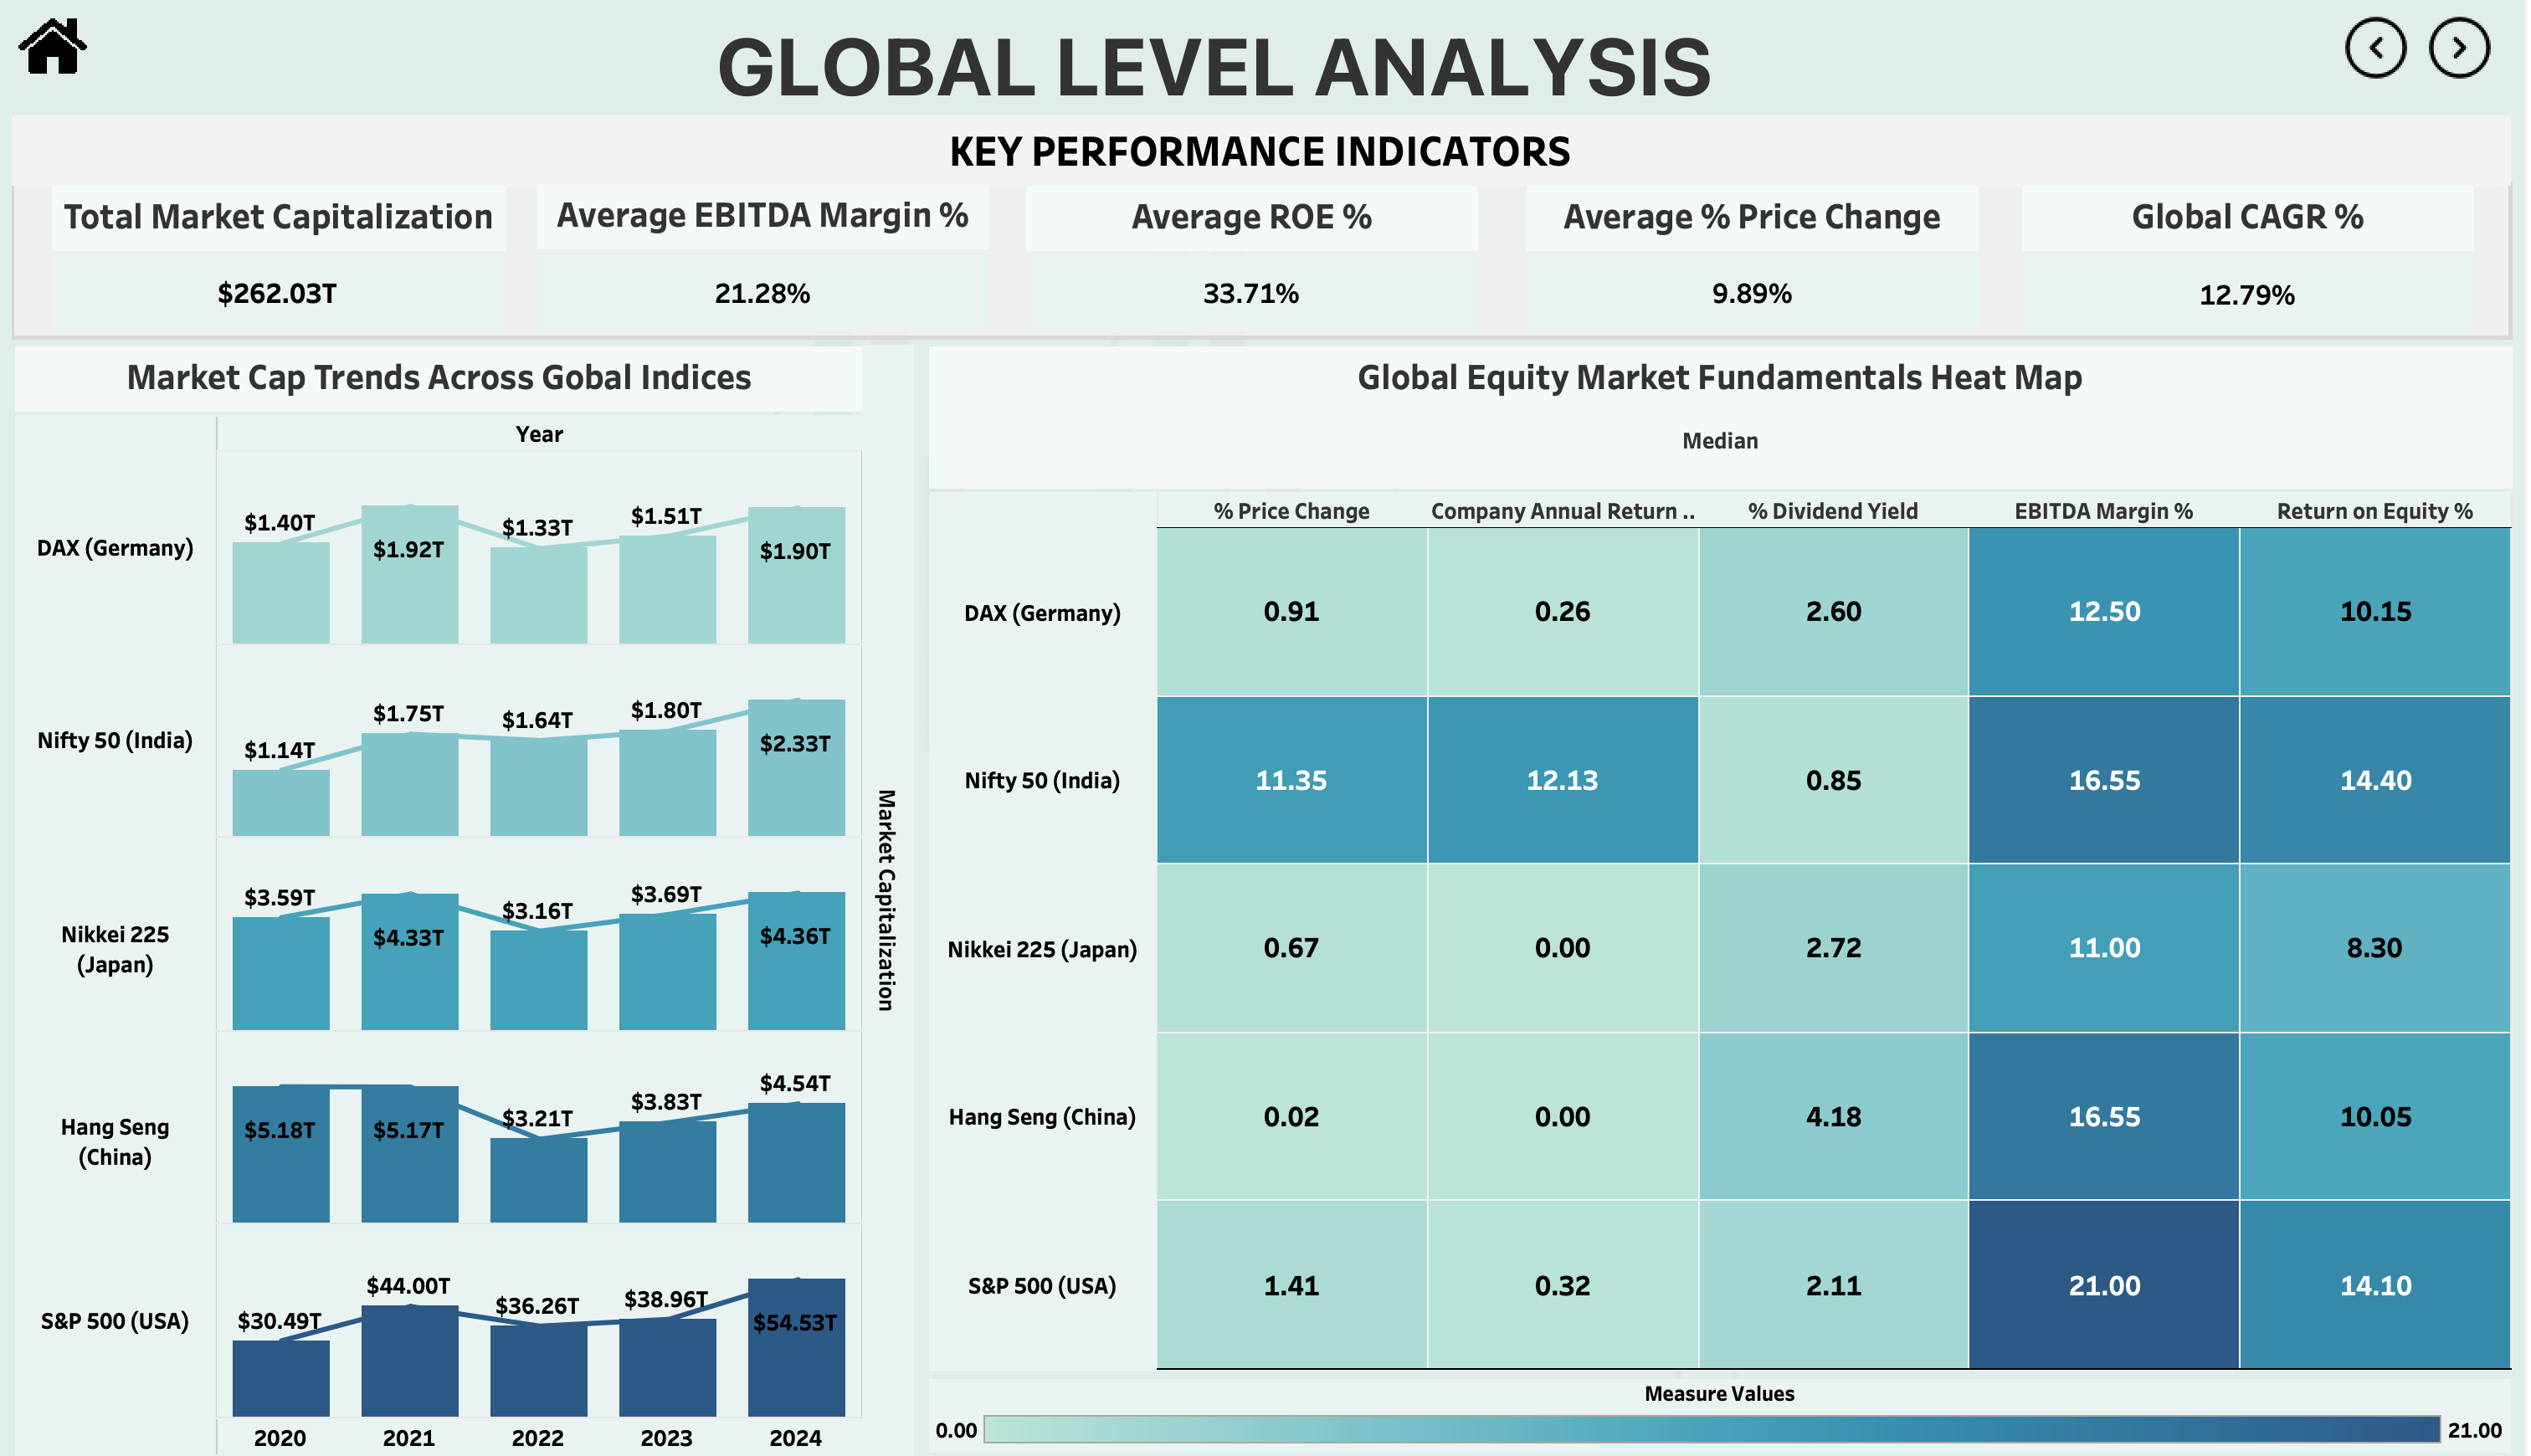

The page's visual inventory and layout, read from the dashboard file:
{"tool":"tableau","page":{"name":"Global Level Analysis","canvas":[1000,1000],"units":"permille","ordinal":2},"visuals":[{"type":"dashboard-object","box":[3.9,7.5,33.4,46.8]},{"type":"worksheet","title":"Global Info.","mark":"Automatic","box":[43.2,7.5,875.2,74.7]},{"type":"dashboard-object","box":[925.4,7.5,27.3,48.3]},{"type":"dashboard-object","box":[955.4,9.1,32.9,46.8]},{"type":"worksheet","title":"KPI TITLE","mark":"Automatic","box":[4.9,79.2,987.5,47.5]},{"type":"worksheet","title":"box (3)","mark":"Automatic","box":[4.9,124.4,988.4,107.1]},{"type":"worksheet","title":"KPI 2","mark":"Automatic","box":[212.6,125.9,178.2,100.3]},{"type":"worksheet","title":"KPI 1","mark":"Automatic","box":[20.5,126.7,179.1,99.5]},{"type":"worksheet","title":"KPI 3","mark":"Automatic","box":[405.5,126.7,178.7,99.5]},{"type":"worksheet","title":"KPI 4","mark":"Automatic","box":[603.4,126.7,178.2,99.5]},{"type":"worksheet","title":"KPI 5","mark":"Automatic","box":[799,126.7,178.7,100.3]},{"type":"worksheet","title":"marketcap title","mark":"Automatic","box":[340.9,235.3,20.5,758.7]},{"type":"worksheet","title":"Market Cap Trends Across Gobal Indices","mark":"Bar","rows":["Index","Market Capitalization","Market Capitalization (copy)_412360849248104448"],"cols":["Year"],"box":[5.8,236.1,335.6,757.9]},{"type":"worksheet","title":"Global Equity Market Fundamentals Heat Map","mark":"Square","rows":["Index"],"box":[366.8,236.1,625.7,699.9]},{"type":"legend","title":"Global Equity Market Fundamentals Heat Map","param":"[federated.0pgchlx1p5gws61gtvl2m0kqny3y].[Multiple Values]","box":[366.8,941.2,625.2,51.3]}]}

Visuals, with their boxes on the dashboard's canvas, which has no fixed pixel size, in thousandths of its width and height (x1, y1, x2, y2). These are canvas units, not pixel positions in the 2531x1456 screenshot, which may show the page scaled, cropped or inside an application window:
dashboard-object: <box>4,8,37,54</box>
"Global Info." worksheet: <box>43,8,918,82</box>
dashboard-object: <box>925,8,953,56</box>
dashboard-object: <box>955,9,988,56</box>
"KPI TITLE" worksheet: <box>5,79,992,127</box>
"box (3)" worksheet: <box>5,124,993,232</box>
"KPI 2" worksheet: <box>213,126,391,226</box>
"KPI 1" worksheet: <box>20,127,200,226</box>
"KPI 3" worksheet: <box>406,127,584,226</box>
"KPI 4" worksheet: <box>603,127,782,226</box>
"KPI 5" worksheet: <box>799,127,978,227</box>
"marketcap title" worksheet: <box>341,235,361,994</box>
"Market Cap Trends Across Gobal Indices" worksheet (Bar marks): <box>6,236,341,994</box>
"Global Equity Market Fundamentals Heat Map" worksheet (Square marks): <box>367,236,992,936</box>
"Global Equity Market Fundamentals Heat Map" legend: <box>367,941,992,992</box>
